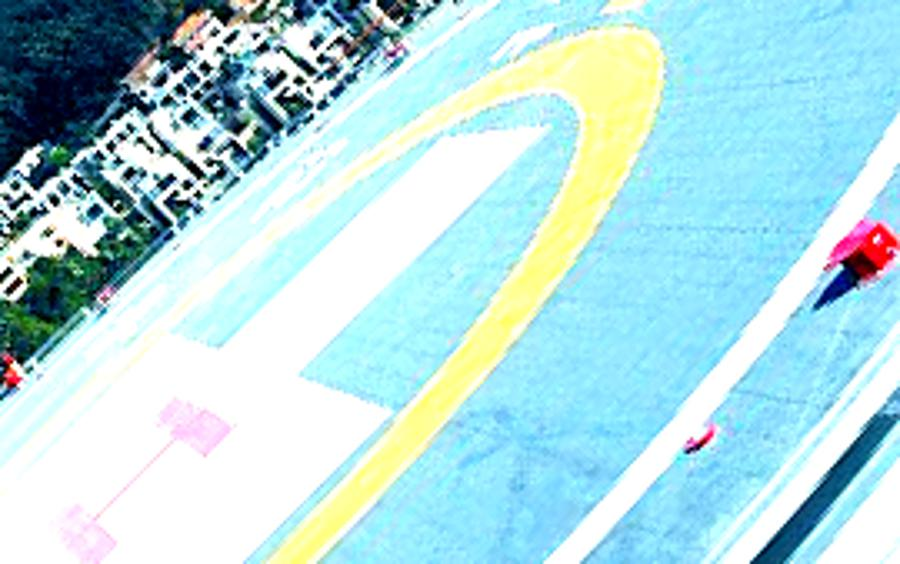Apron: (1, 21, 667, 564)
